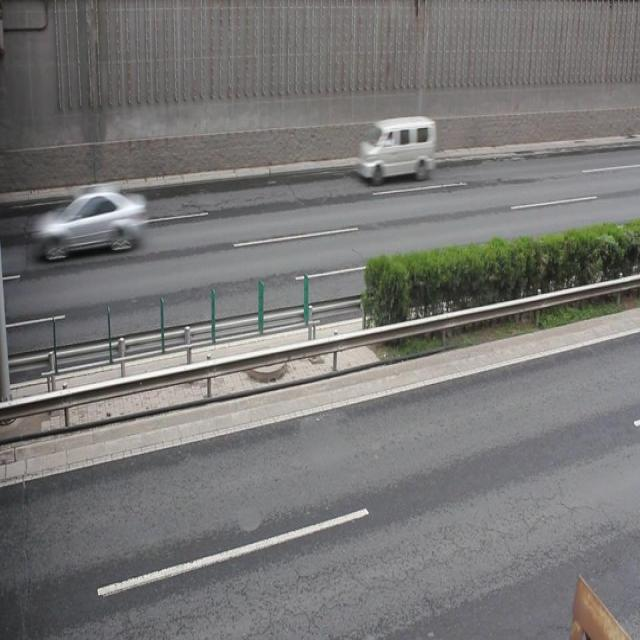car: (42, 182, 146, 258)
truck: (358, 116, 436, 183)
